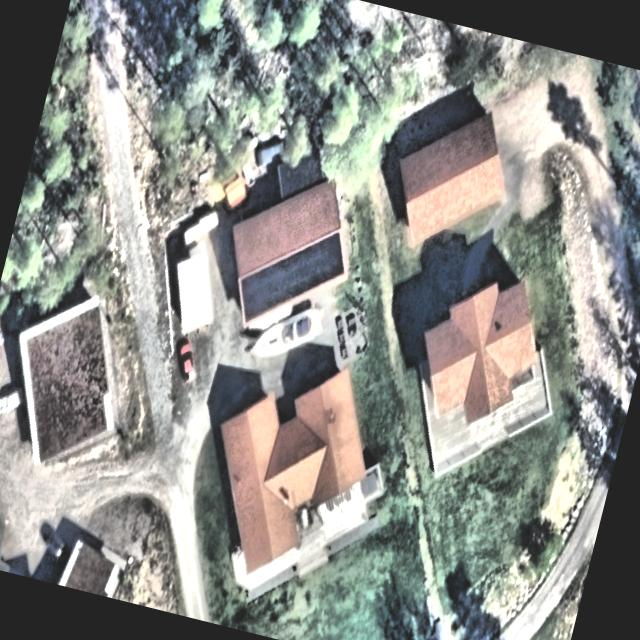roof_pv: (274, 222, 352, 317), (232, 252, 290, 328)
